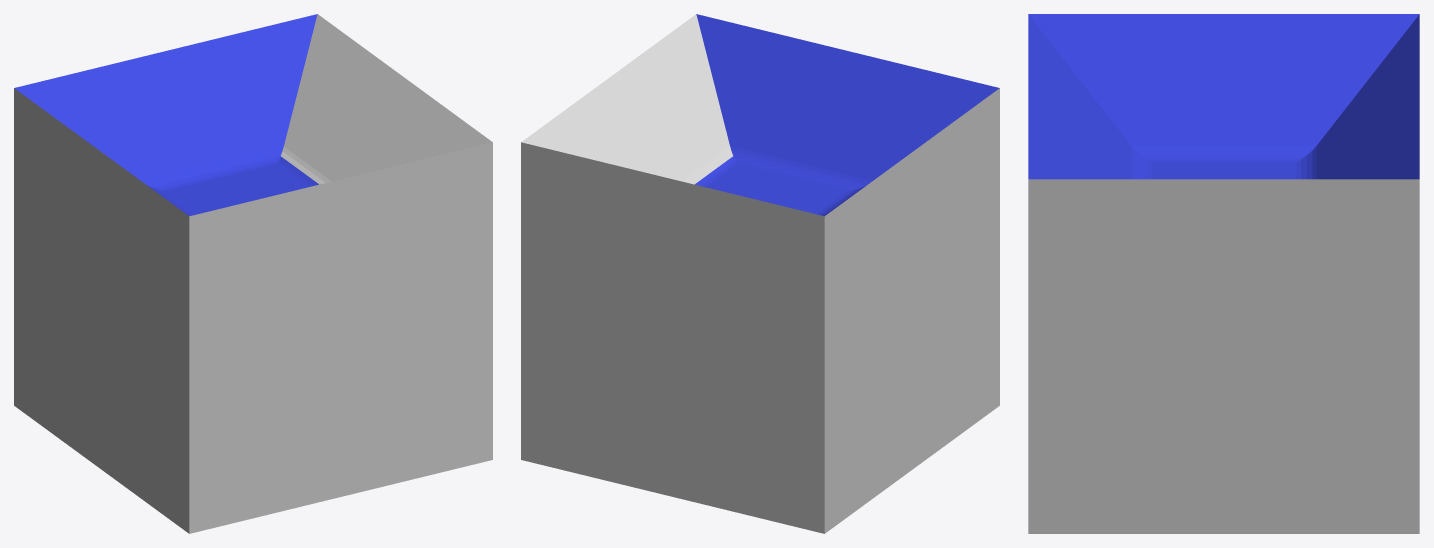
The picture shows the model from 3 angles, left to right: view 1: azimuth 30°, elevation 25°; view 2: azimuth 150°, elevation 25°; view 3: azimuth 270°, elevation 25°; orthographic projection. The views are drawn at different scales.
Parts seen in each view (by area): view 1: Cube; view 2: Cube; view 3: Cube.
Part boxes in pixels (<box>): Cube: <box>14,14,492,533</box>; Cube: <box>521,14,999,533</box>; Cube: <box>1028,14,1419,533</box>.
Bounding box in the file's own units: 2 × 2 × 2.
